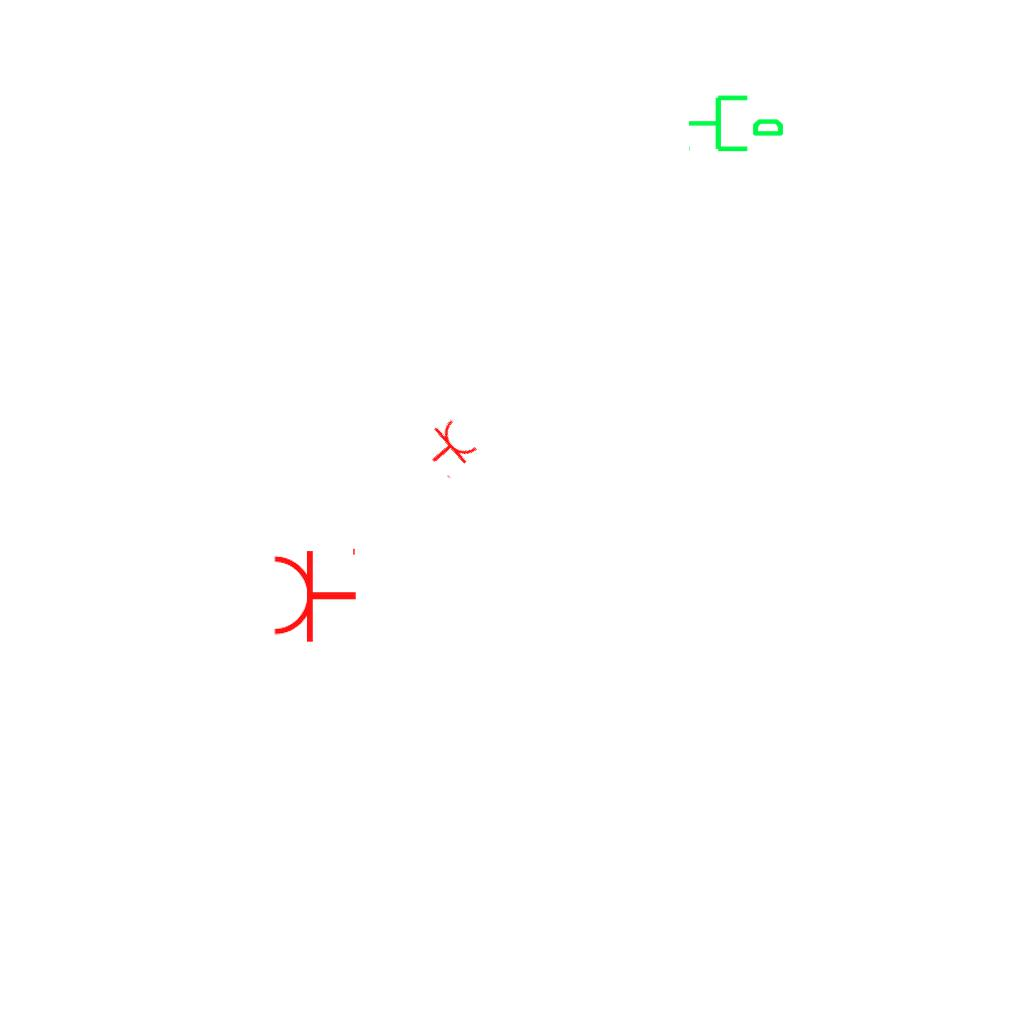Datenanschluss_einfach: (686, 87, 786, 156)
Schukosteckdose_einfach: (271, 544, 358, 644), (416, 415, 483, 481)
